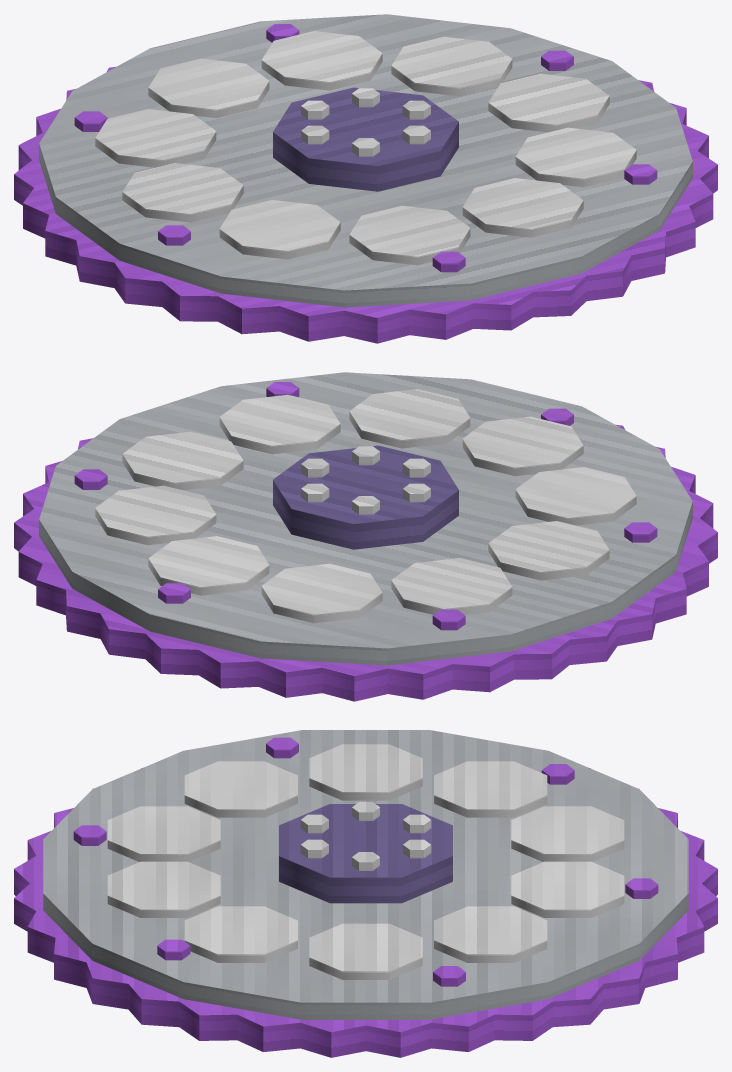
The model's file is volante_motor_n5.glb.
3 views of the same model, one above another, from view 1: azimuth 30°, elevation 25°; view 2: azimuth 150°, elevation 25°; view 3: azimuth 270°, elevation 25° (orthographic).
Parts seen in each view (by area): view 1: volante_motor_n5; view 2: volante_motor_n5; view 3: volante_motor_n5.
Part boxes in pixels (bbox=[...]): volante_motor_n5: bbox=[14, 14, 717, 343]; volante_motor_n5: bbox=[14, 372, 717, 701]; volante_motor_n5: bbox=[14, 730, 717, 1057].
Bounding box in the file's own units: 0.2986 × 0.036 × 0.2986.
Materials: 2 (2 with a texture image).
